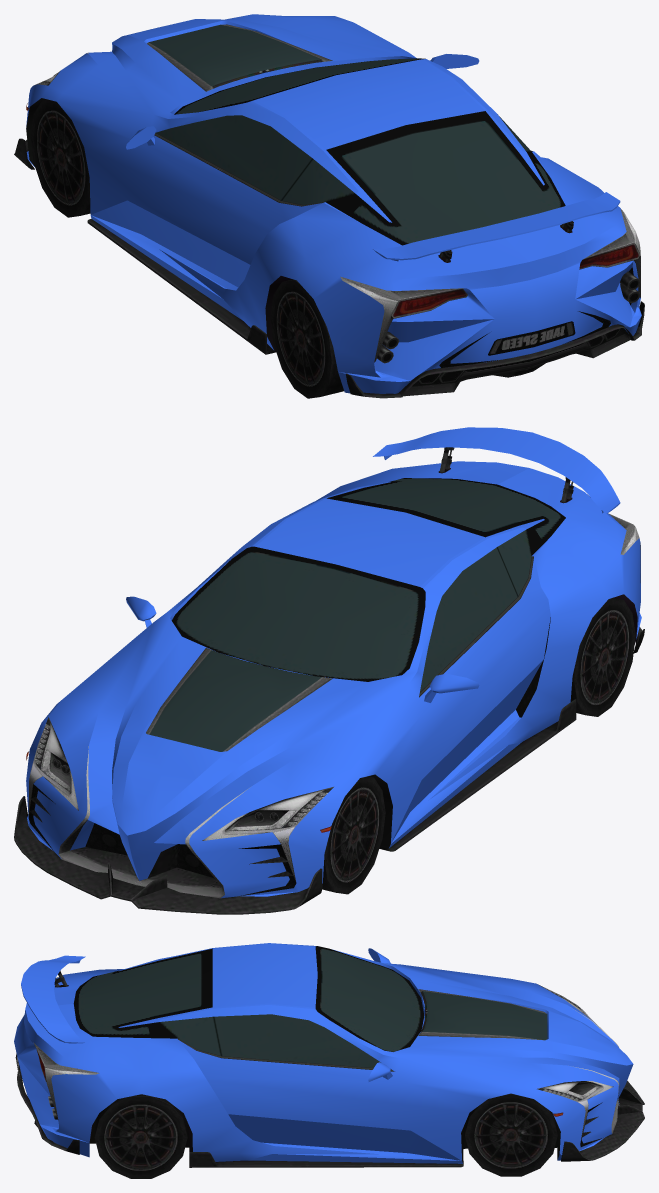
File: car_71.glb
The picture shows the model from 3 angles, top to bottom: view 1: azimuth 30°, elevation 25°; view 2: azimuth 150°, elevation 25°; view 3: azimuth 270°, elevation 25°; orthographic projection. The views are drawn at different scales.
Parts seen in each view (by area): view 1: car_71; view 2: car_71; view 3: car_71.
Part boxes in pixels (bbox=[...]): car_71: bbox=[14, 14, 644, 398]; car_71: bbox=[14, 427, 644, 914]; car_71: bbox=[14, 943, 644, 1178].
Bounding box in the file's own units: 22.8 × 12.43 × 46.64.
12 materials, 12 textured.
